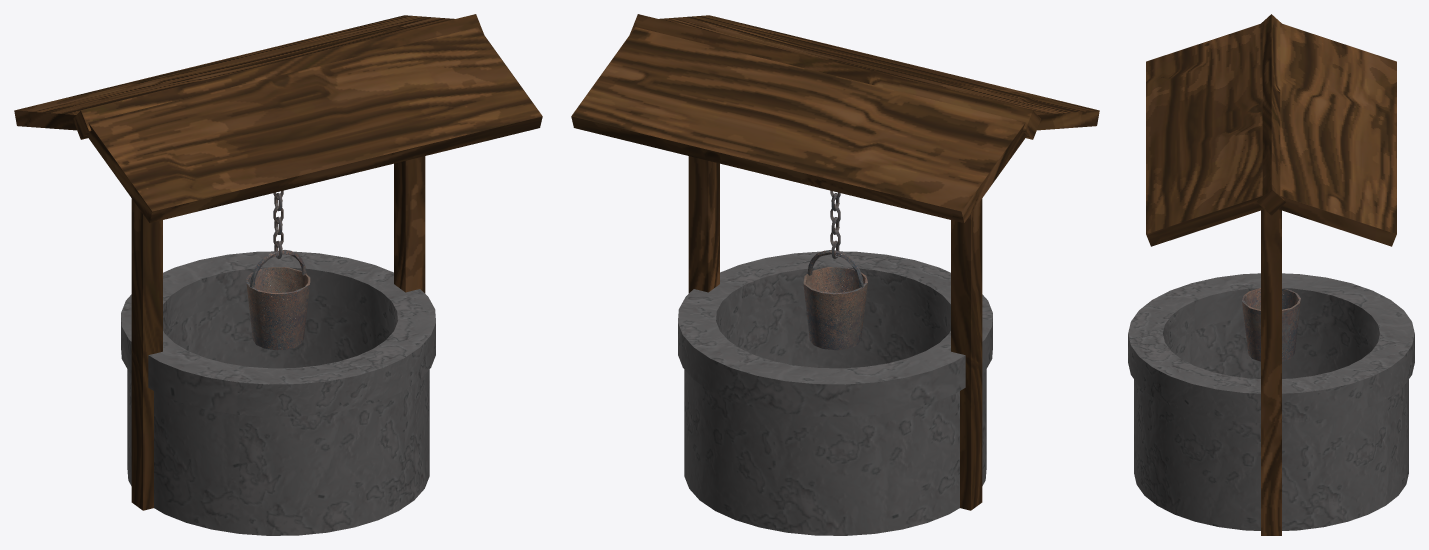
The model's file is r_well (1).fbx.
3 views of the same model, side by side, from view 1: azimuth 30°, elevation 25°; view 2: azimuth 150°, elevation 25°; view 3: azimuth 270°, elevation 25° (orthographic). The views are drawn at different scales.
Visible parts, largest first — view 1: r_well; view 2: r_well; view 3: r_well.
Part boxes in pixels (left/top/right/bottom): r_well: left=14, top=14, right=542, bottom=535; r_well: left=571, top=14, right=1099, bottom=535; r_well: left=1128, top=14, right=1414, bottom=535.
Bounding box in the file's own units: 202 × 201 × 140.
Materials: 1 (1 with a texture image).
